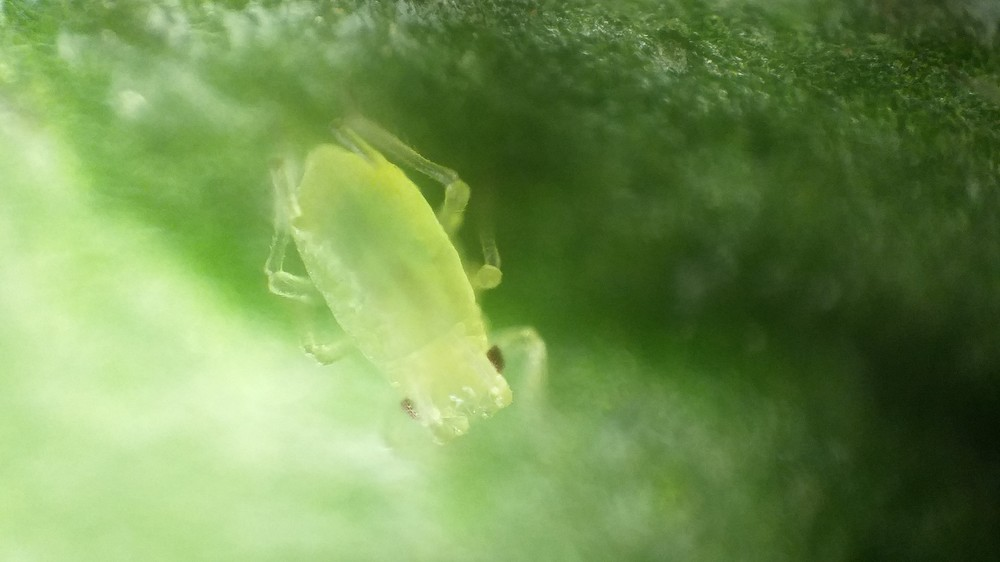Pulgon: (231, 95, 574, 460)
